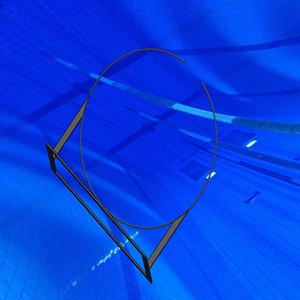circle: (45, 46, 219, 283)
